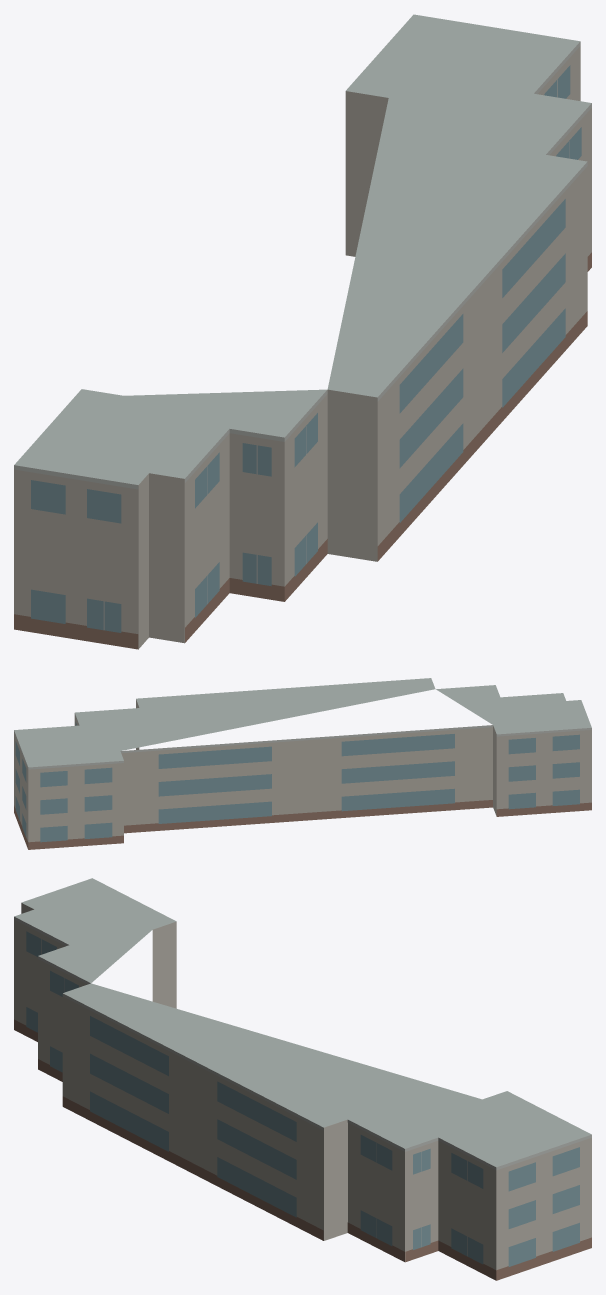
The model's file is survey-upis-32818818.glb.
3 renders of one model, top to bottom at view 1: azimuth 30°, elevation 25°; view 2: azimuth 150°, elevation 25°; view 3: azimuth 270°, elevation 25°, orthographic. The views are drawn at different scales.
Parts seen in each view (by area): view 1: survey-upis-32818818.tmp; view 2: survey-upis-32818818.tmp; view 3: survey-upis-32818818.tmp.
Part boxes in pixels (x1,y1,x2,y2): survey-upis-32818818.tmp: (14, 14, 591, 649); survey-upis-32818818.tmp: (14, 678, 591, 849); survey-upis-32818818.tmp: (14, 878, 591, 1280).
Size of the model in its own units: 50.06 by 9.15 by 42.26.
